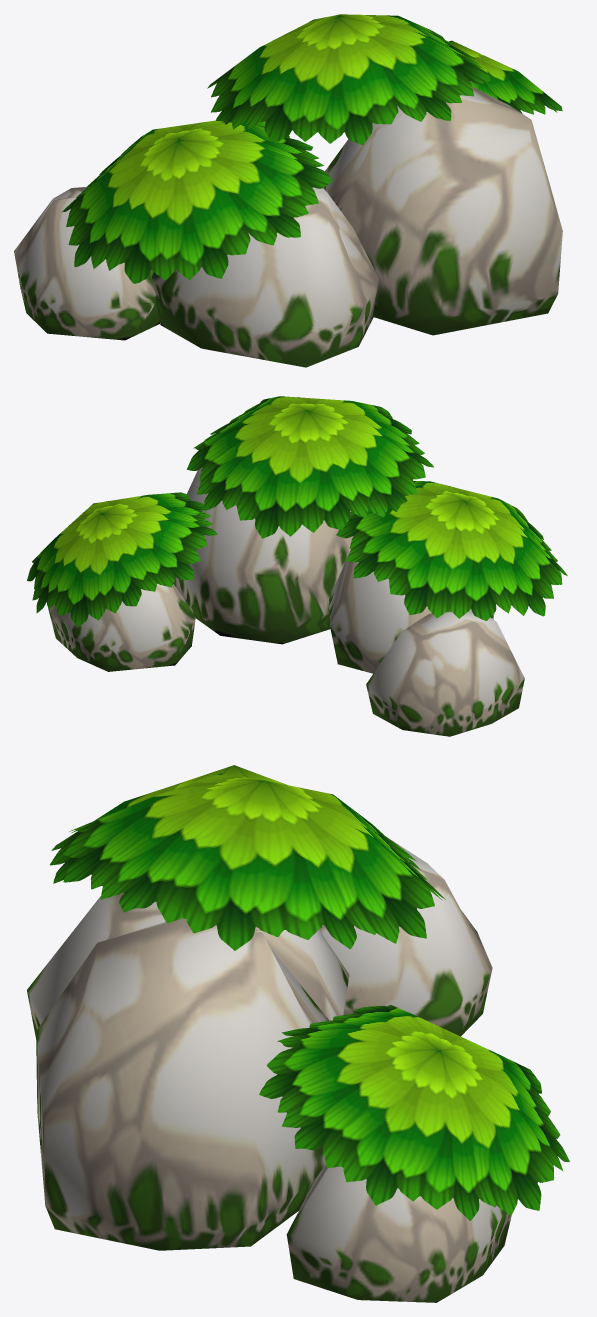
The model's file is RockGroup_04.FBX.
The picture shows the model from 3 angles, top to bottom: view 1: azimuth 30°, elevation 25°; view 2: azimuth 150°, elevation 25°; view 3: azimuth 270°, elevation 25°; orthographic projection. The views are drawn at different scales.
Parts seen in each view (by area): view 1: RockGroup_04; view 2: RockGroup_04; view 3: RockGroup_04.
Boxes of the visible parts, x1,y1,x2,y2 form: RockGroup_04: (14,14,562,367); RockGroup_04: (27,396,567,736); RockGroup_04: (27,765,569,1302).
Bounding box in the file's own units: 1.49 × 0.7124 × 0.9877.
